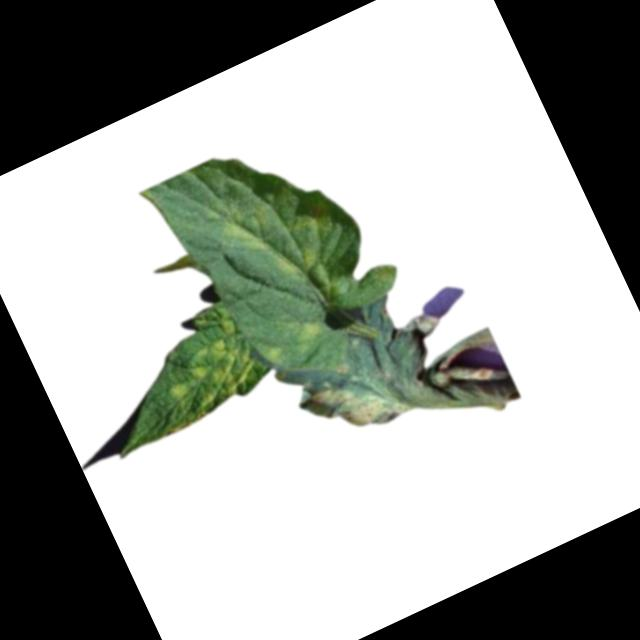Leaf_Mold: (215, 173, 340, 299), (150, 313, 267, 427), (299, 353, 412, 451), (287, 308, 331, 349)
